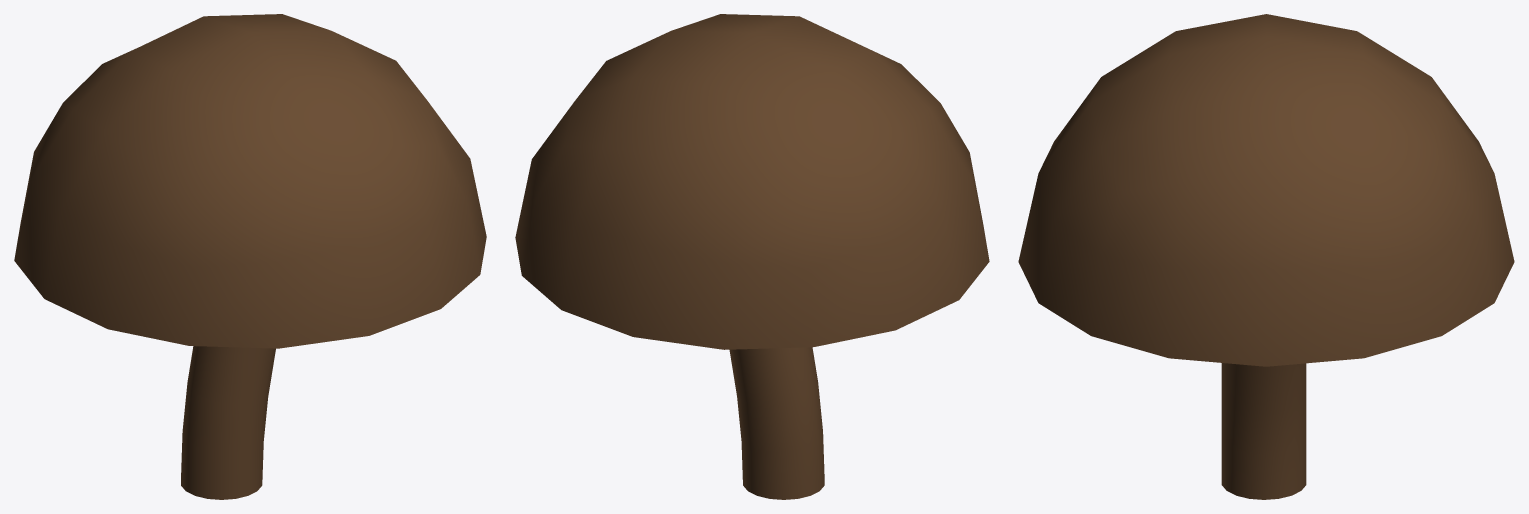
File: Hongo.fbx
3 renders of one model, left to right at view 1: azimuth 30°, elevation 25°; view 2: azimuth 150°, elevation 25°; view 3: azimuth 270°, elevation 25°, orthographic. The views are drawn at different scales.
Parts seen in each view (by area): view 1: Hongo; view 2: Hongo; view 3: Hongo.
Boxes of the visible parts, box(x1,y1,x2,y2) form: Hongo: box(14, 14, 486, 499); Hongo: box(515, 14, 989, 499); Hongo: box(1018, 14, 1514, 499).
Size of the model in its own units: 4.72 by 4.82 by 4.72.
